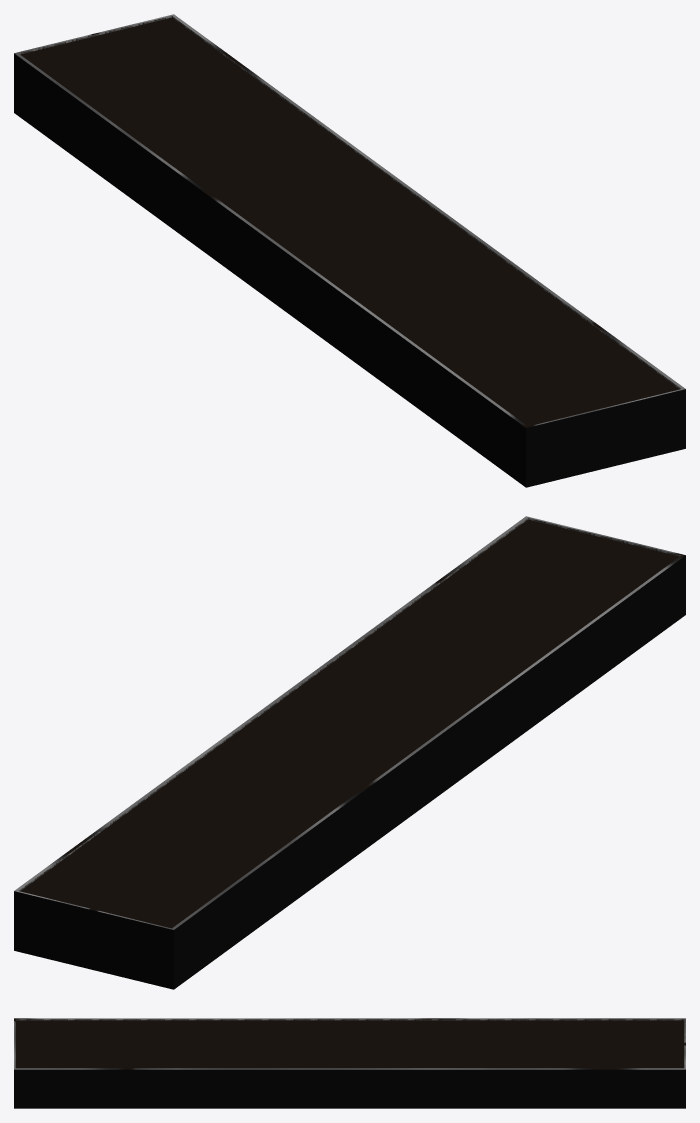
File: CALABOUCO.fbx
3 views of the same model, one above another, from view 1: azimuth 30°, elevation 25°; view 2: azimuth 150°, elevation 25°; view 3: azimuth 270°, elevation 25° (orthographic). The views are drawn at different scales.
Visible parts, largest first — view 1: corredor; view 2: corredor; view 3: corredor.
Part boxes in pixels (x1,y1,x2,y2): corredor: (14,14,685,487); corredor: (14,516,685,989); corredor: (14,1018,685,1108).
Size of the model in its own units: 10120 by 4565 by 56146.
